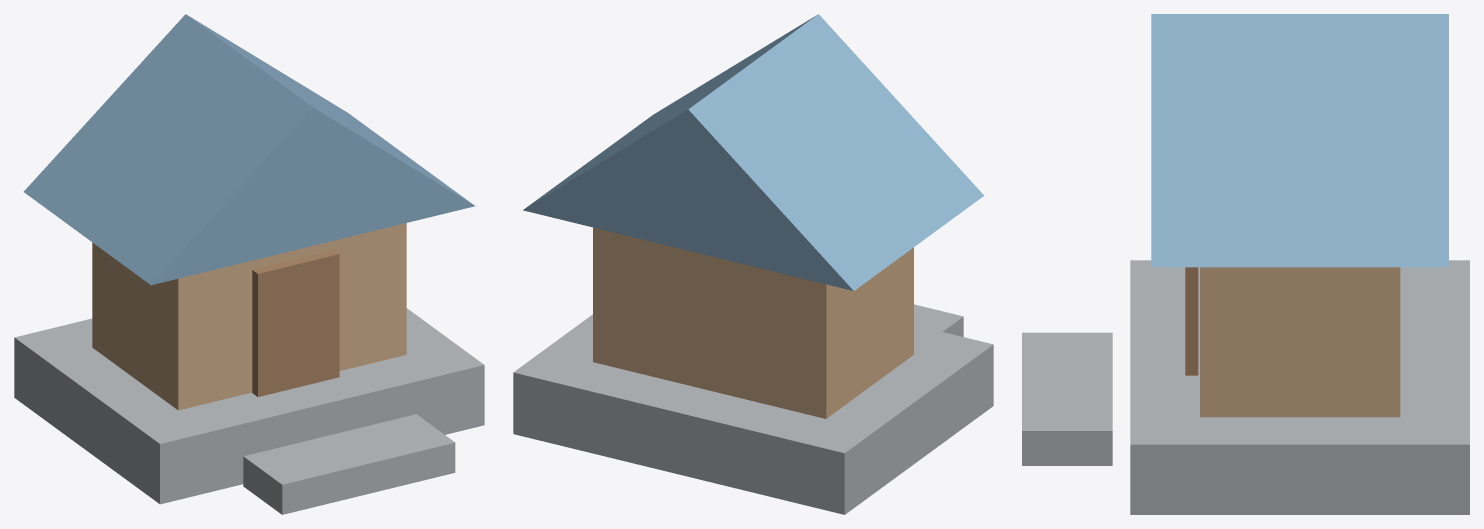
Rendered from shrine_01_prompt3d_raw.glb.
3 renders of one model, left to right at view 1: azimuth 30°, elevation 25°; view 2: azimuth 150°, elevation 25°; view 3: azimuth 270°, elevation 25°, orthographic. The views are drawn at different scales.
Parts seen in each view (by area): view 1: asset_root; view 2: asset_root; view 3: asset_root.
Part boxes in pixels (bbox=[...]): asset_root: bbox=[14, 14, 484, 514]; asset_root: bbox=[513, 14, 993, 514]; asset_root: bbox=[1022, 14, 1469, 514].
Bounding box in the file's own units: 1.35 × 1.39 × 1.38.
